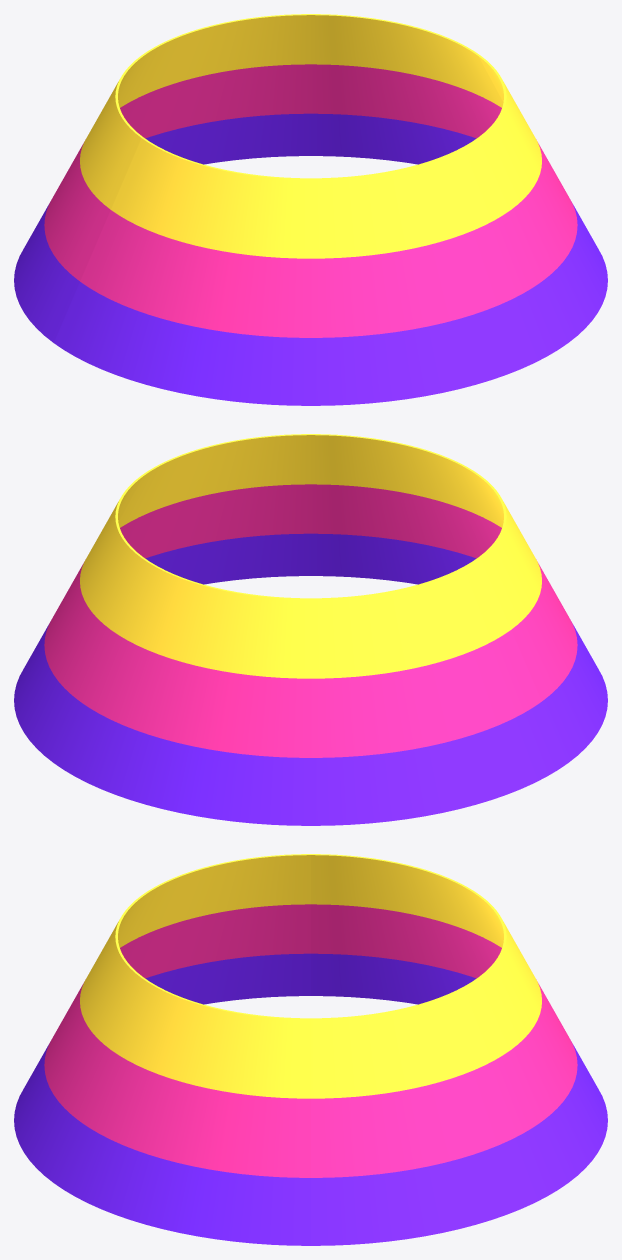
Rendered from cone_crusher_wear.glb.
3 views of the same model, one above another, from view 1: azimuth 30°, elevation 25°; view 2: azimuth 150°, elevation 25°; view 3: azimuth 270°, elevation 25° (orthographic).
Parts seen in each view (by area): view 1: wr__front, wr__back; view 2: wr__back, wr__front; view 3: wr__back, wr__front.
Boxes of the visible parts, x1,y1,x2,y2 form: wr__front: [54, 55, 607, 405]; wr__back: [14, 14, 503, 342]; wr__back: [14, 475, 567, 825]; wr__front: [118, 434, 607, 762]; wr__back: [311, 854, 607, 1245]; wr__front: [14, 854, 310, 1245].
Size of the model in its own units: 1.17 by 0.4 by 1.17.
